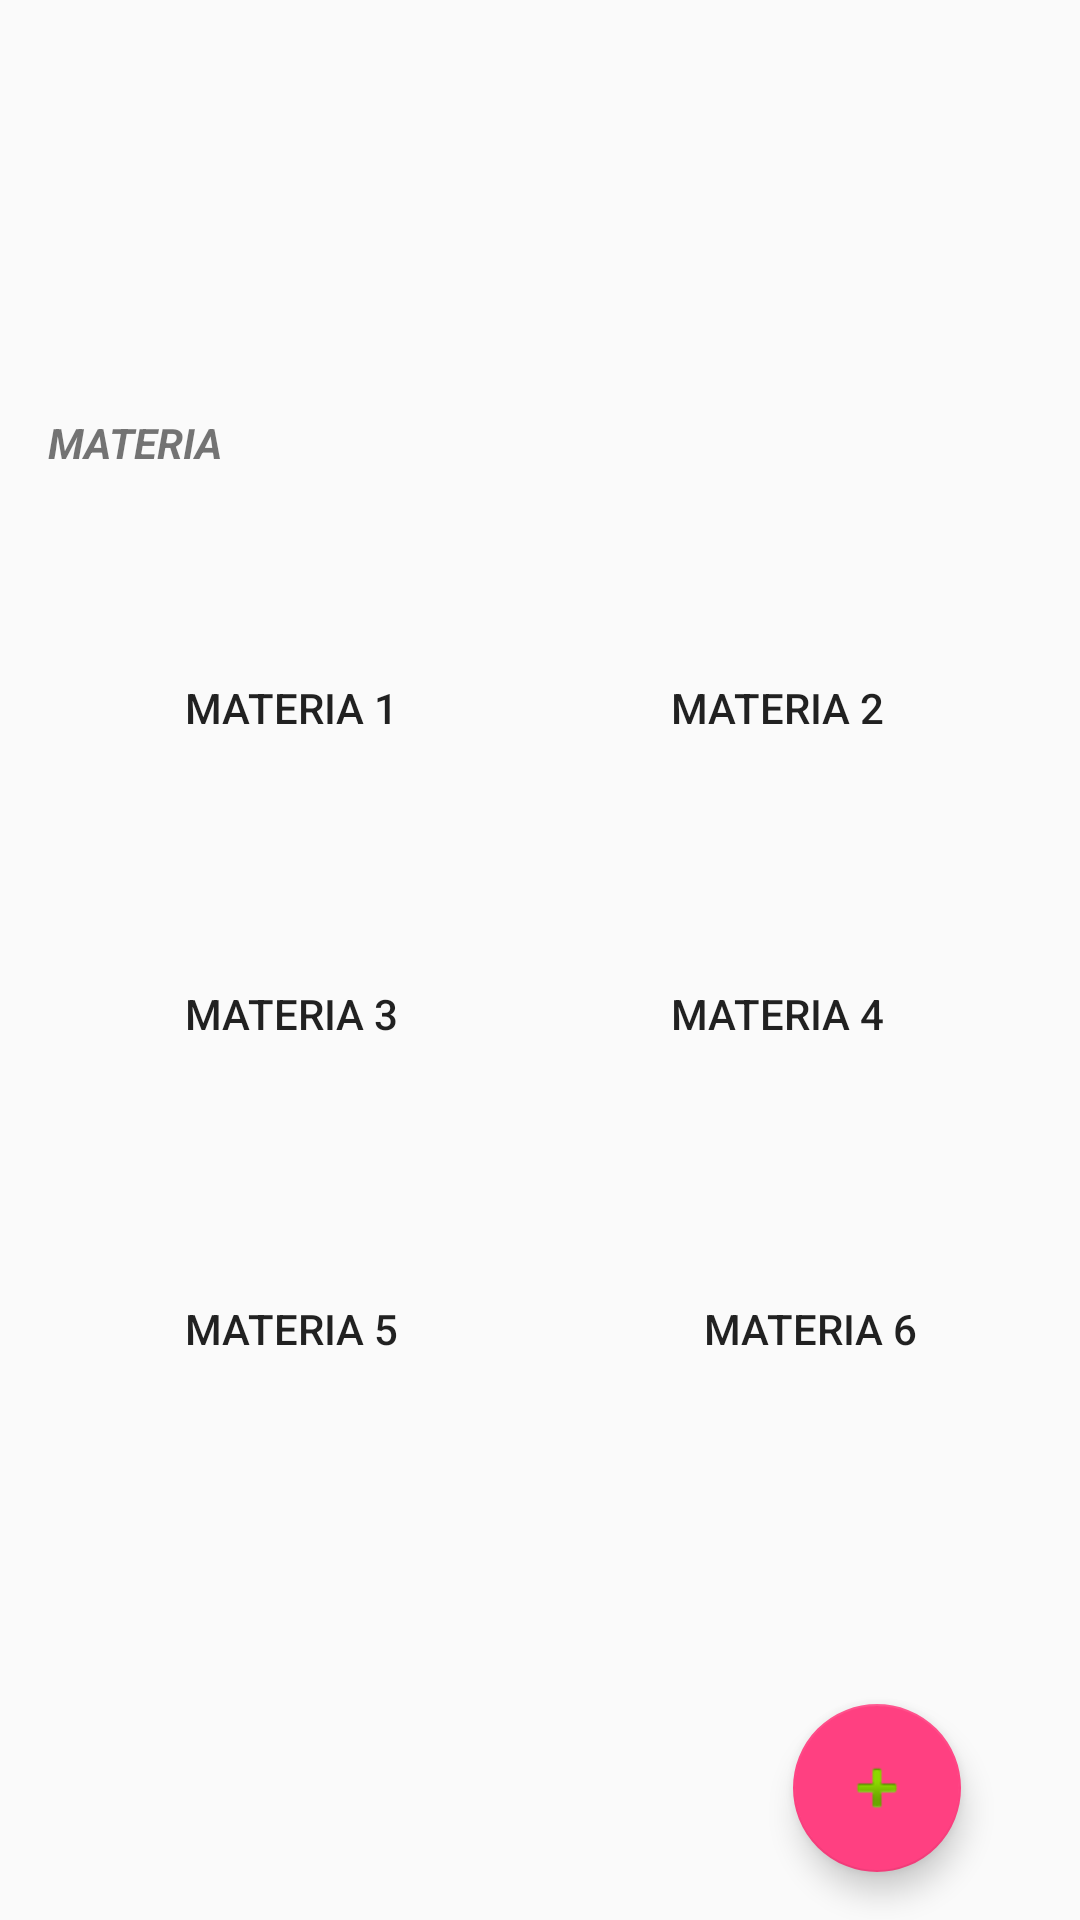

Icons on this 1080x1920 Android screen, each with its box as (x1, y1, x2, y2):
add: (793, 1704, 961, 1872)
